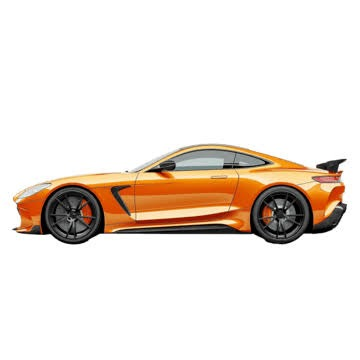car: (23, 140, 348, 251)
